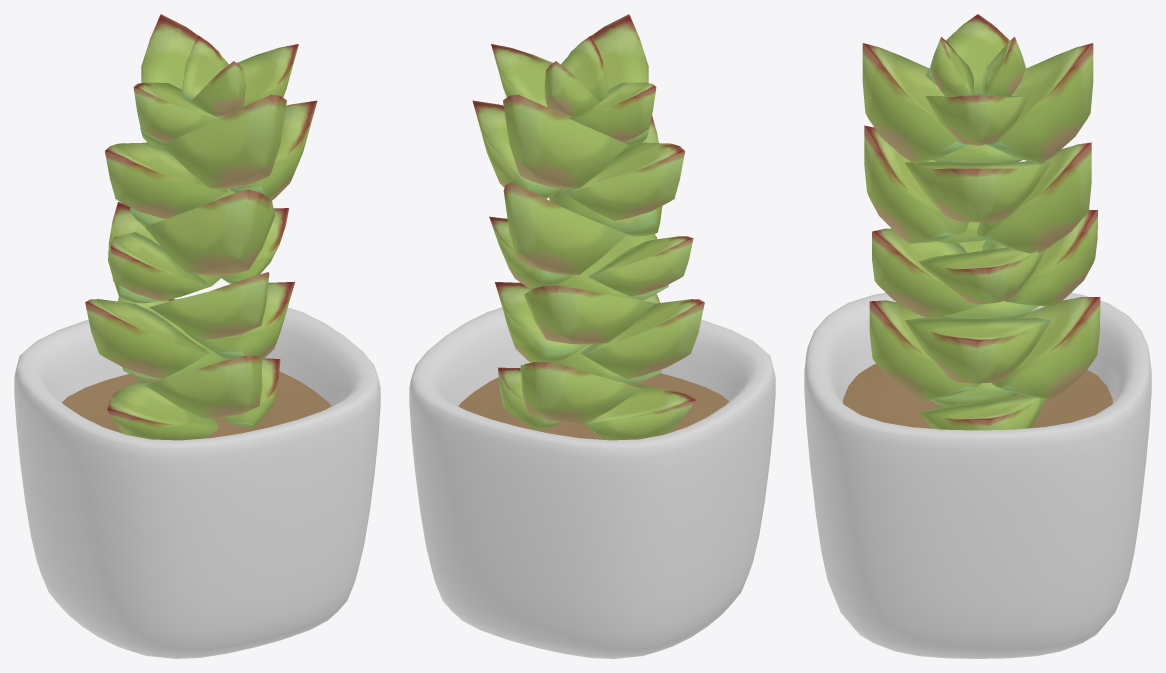
Rendered from plant-9.glb.
3 renders of one model, left to right at view 1: azimuth 30°, elevation 25°; view 2: azimuth 150°, elevation 25°; view 3: azimuth 270°, elevation 25°, orthographic. The views are drawn at different scales.
Parts seen in each view (by area): view 1: Pot008, jyuzuhoshi; view 2: Pot008, jyuzuhoshi; view 3: Pot008, jyuzuhoshi.
Boxes of the visible parts, left/top/right/bottom form: Pot008: left=14, top=307, right=380, bottom=658; jyuzuhoshi: left=85, top=14, right=317, bottom=440; Pot008: left=409, top=307, right=775, bottom=658; jyuzuhoshi: left=472, top=14, right=704, bottom=440; Pot008: left=804, top=292, right=1151, bottom=658; jyuzuhoshi: left=862, top=14, right=1100, bottom=430.
Size of the model in its own units: 0.5765 by 1.03 by 0.5514.
3 materials, 1 textured.
